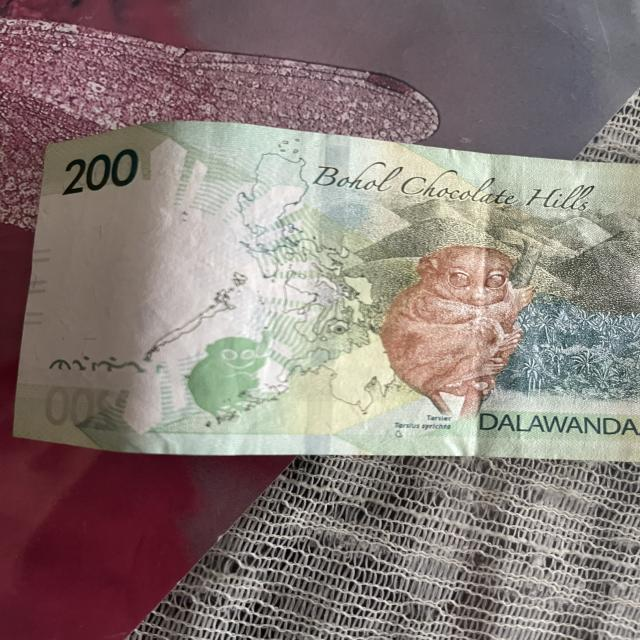200_tarsier: (366, 231, 531, 429)
200_tarsier_watermark: (179, 319, 286, 424)
